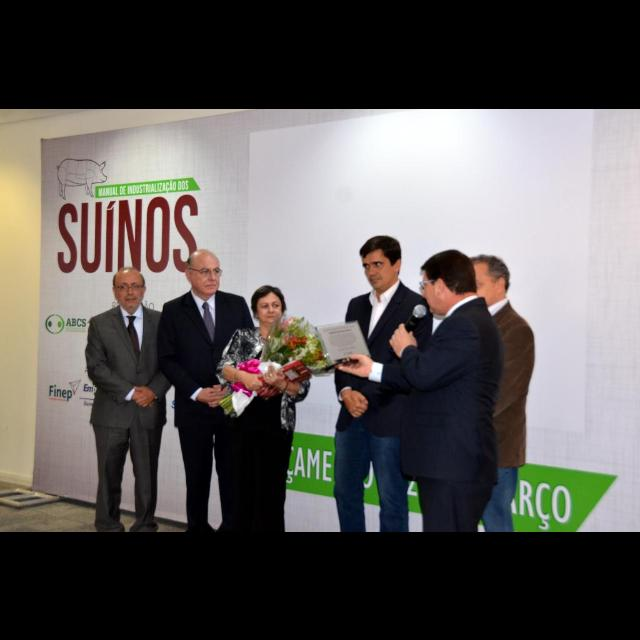Flower: (278, 317, 328, 377), (285, 336, 307, 348)
